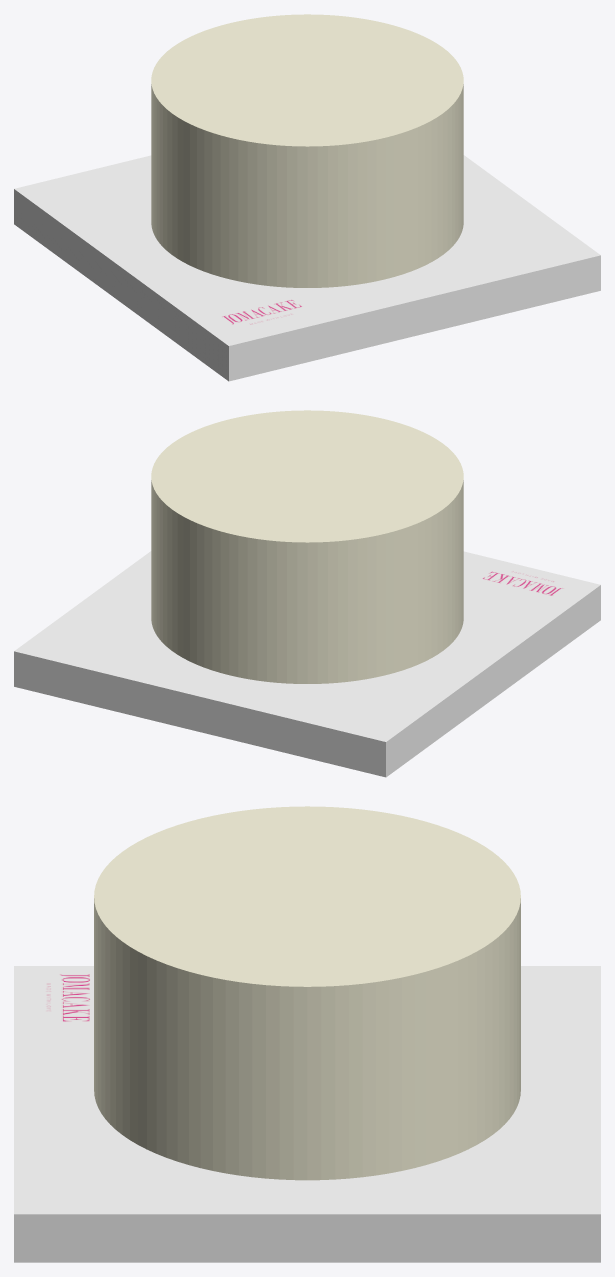
Rendered from cake_6in_layers2_v43.glb.
The picture shows the model from 3 angles, top to bottom: view 1: azimuth 30°, elevation 25°; view 2: azimuth 150°, elevation 25°; view 3: azimuth 270°, elevation 25°; orthographic projection. The views are drawn at different scales.
Parts seen in each view (by area): view 1: Cake, Board, Logo; view 2: Cake, Board, Logo; view 3: Cake, Board, Logo.
Boxes of the visible parts, box(x1,y1,x2,y2) form: Cake: box(151, 14, 463, 287); Board: box(14, 155, 600, 381); Logo: box(208, 293, 322, 334); Cake: box(151, 410, 463, 683); Board: box(14, 551, 600, 777); Logo: box(468, 561, 582, 601); Cake: box(94, 806, 520, 1180); Board: box(14, 966, 600, 1262); Logo: box(31, 968, 93, 1027).
Bounding box in the file's own units: 0.22 × 0.1 × 0.22.
